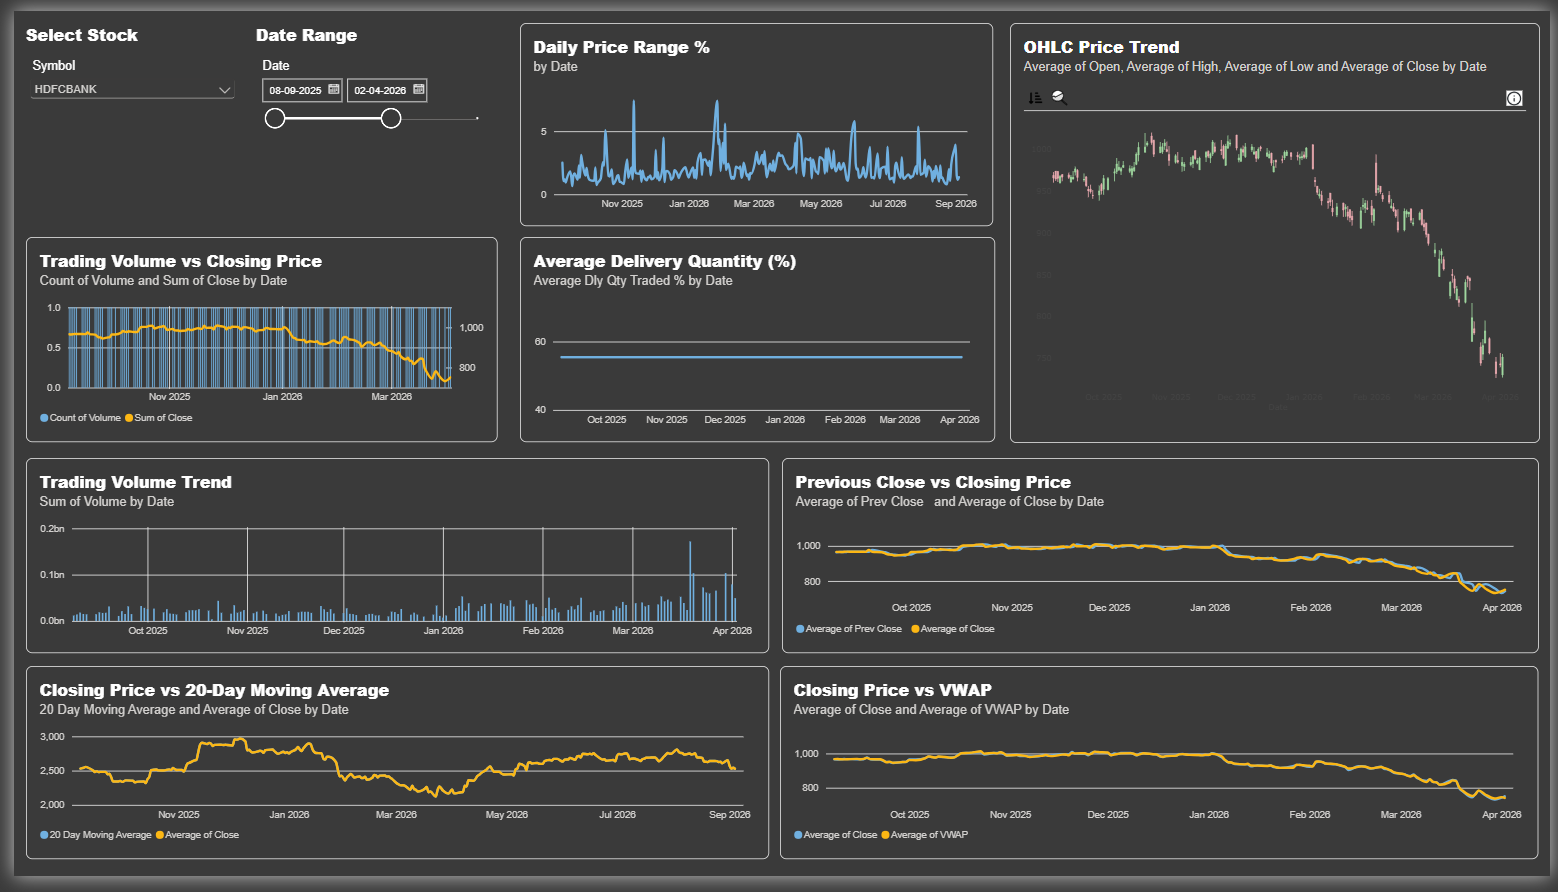

The dashboard page shown, as its layout file describes it:
{"tool":"powerbi","page":{"name":"Stock Analysis","canvas":[1920,1080],"ordinal":1},"visuals":[{"type":"slicer","title":"Select Stock","fields":{"Values":["Stocks_Data.Symbol  "]},"box":[14.6,14.6,266.7,256.2],"z":0},{"type":"candlestickD7180D8F77642DBFBF61A4FEEE09DDBD","title":"OHLC Price Trend","fields":{"col_0":["Stocks_Data.Date  "],"col_1":["Avg(Stocks_Data.Open)"],"col_2":["Avg(Stocks_Data.High)"],"col_3":["Avg(Stocks_Data.Low)"],"col_4":["Avg(Stocks_Data.Close)"]},"box":[1243.8,14.6,662.5,525],"z":1000},{"type":"slicer","title":"Date Range","fields":{"Values":["Stocks_Data.Date  "]},"box":[302.1,14.6,293.8,256.2],"z":2000},{"type":"lineClusteredColumnComboChart","title":"Trading Volume Trend","fields":{"Category":["Stocks_Data.Date  "],"Y":["Sum(Stocks_Data.Volume)"]},"box":[14.6,556.2,929.2,243.8],"z":3000},{"type":"lineChart","title":"Previous Close vs Closing Price","fields":{"Category":["Stocks_Data.Date  "],"Y":["Avg(Stocks_Data.Prev Close  )","Avg(Stocks_Data.Close)"]},"box":[960.4,556.2,945.8,243.8],"z":4000},{"type":"lineChart","title":"Closing Price vs VWAP","fields":{"Category":["Stocks_Data.Date  "],"Y":["Avg(Stocks_Data.Close)","Avg(Stocks_Data.VWAP)"]},"box":[958.3,816.7,947.9,241.7],"z":7000},{"type":"lineClusteredColumnComboChart","title":"Trading Volume vs Closing Price","fields":{"Category":["Stocks_Data.Date  "],"Y":["CountNonNull(Stocks_Data.Volume)"],"Y2":["Sum(Stocks_Data.Close)"]},"box":[14.6,283.3,589.6,256.2],"z":8000},{"type":"lineChart","title":"Average Delivery Quantity (%)","fields":{"Category":["Stocks_Data.Date  "],"Y":["MARUTI.Average Dly Qty Traded %"]},"box":[631.2,283.3,593.8,256.2],"z":10000},{"type":"lineChart","fields":{"Category":["ASIANPAINT.Date  "],"Y":["MARUTI.Daily Price Range %"]},"box":[631.2,14.6,591.7,254.2],"z":11000},{"type":"lineChart","title":"Closing Price vs 20-Day Moving Average","fields":{"Category":["ASIANPAINT.Date  "],"Y":["ASIANPAINT.20 Day Moving Average","Avg(ASIANPAINT.Close)"]},"box":[14.6,816.7,929.2,241.7],"z":12000}]}

Visuals, with their boxes in screenshot pixels (x1, y1, x2, y2), scaled from the page's 1920x1080 canvas onto the 1558x892 screenshot:
"Select Stock" slicer: 12, 12, 228, 224
"OHLC Price Trend" candlestickD7180D8F77642DBFBF61A4FEEE09DDBD: 1009, 12, 1547, 446
"Date Range" slicer: 245, 12, 484, 224
"Trading Volume Trend" lineClusteredColumnComboChart: 12, 459, 766, 661
"Previous Close vs Closing Price" lineChart: 779, 459, 1547, 661
"Closing Price vs VWAP" lineChart: 778, 675, 1547, 874
"Trading Volume vs Closing Price" lineClusteredColumnComboChart: 12, 234, 490, 446
"Average Delivery Quantity (%)" lineChart: 512, 234, 994, 446
lineChart - ASIANPAINT.Date   x MARUTI.Daily Price Range %: 512, 12, 992, 222
"Closing Price vs 20-Day Moving Average" lineChart: 12, 675, 766, 874
